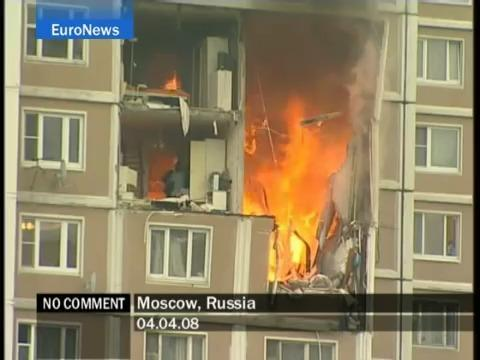fire: (241, 96, 332, 277), (164, 71, 179, 93)
